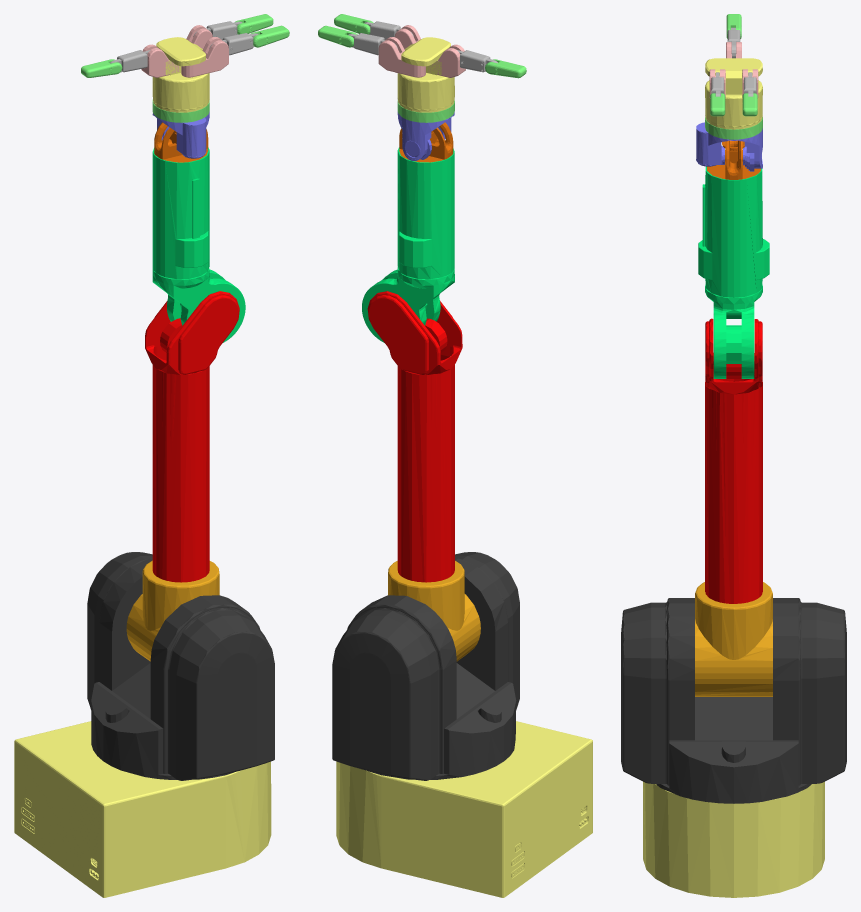
Rendered from barrett-wamhand.dae.
3 renders of one model, left to right at view 1: azimuth 30°, elevation 25°; view 2: azimuth 150°, elevation 25°; view 3: azimuth 270°, elevation 25°, orthographic.
Parts seen in each view (by area): view 1: wam1, wam0, wam3, wam4, handbase (×2), wam2, wam6, Finger0-0, wam5, wam7, Finger2-2; view 2: wam1, wam0, wam3, wam4, handbase (×2), wam2, wam6, Finger1-0, wam5, wam7, Finger2-2; view 3: wam1, wam0, wam3, wam4, wam2, handbase, wam6, wam5, wam7.
Part boxes in pixels (left/top/right/bottom): wam1: left=87, top=552, right=274, bottom=780; wam0: left=14, top=721, right=271, bottom=897; wam3: left=145, top=291, right=239, bottom=582; wam4: left=152, top=147, right=245, bottom=342; handbase (×2): left=141, top=37, right=209, bottom=112; wam2: left=126, top=560, right=219, bottom=661; wam6: left=152, top=112, right=209, bottom=158; Finger0-0: left=181, top=37, right=228, bottom=77; wam5: left=154, top=122, right=208, bottom=162; wam7: left=152, top=99, right=209, bottom=122; Finger2-2: left=81, top=59, right=122, bottom=77; wam1: left=332, top=552, right=519, bottom=780; wam0: left=336, top=721, right=592, bottom=897; wam3: left=367, top=291, right=462, bottom=582; wam4: left=362, top=147, right=454, bottom=342; handbase (×2): left=397, top=37, right=465, bottom=112; wam2: left=388, top=561, right=480, bottom=661; wam6: left=397, top=112, right=454, bottom=160; Finger1-0: left=378, top=37, right=425, bottom=77; wam5: left=399, top=122, right=453, bottom=162; wam7: left=397, top=100, right=454, bottom=122; Finger2-2: left=485, top=59, right=526, bottom=78; wam1: left=621, top=598, right=846, bottom=803; wam0: left=643, top=781, right=824, bottom=897; wam3: left=705, top=318, right=762, bottom=603; wam4: left=698, top=166, right=769, bottom=378; wam2: left=695, top=582, right=772, bottom=696; handbase: left=705, top=58, right=762, bottom=129; wam6: left=696, top=122, right=762, bottom=171; wam5: left=707, top=140, right=760, bottom=179; wam7: left=705, top=117, right=762, bottom=139.
Size of the model in its own units: 0.396 by 0.3476 by 1.36.
